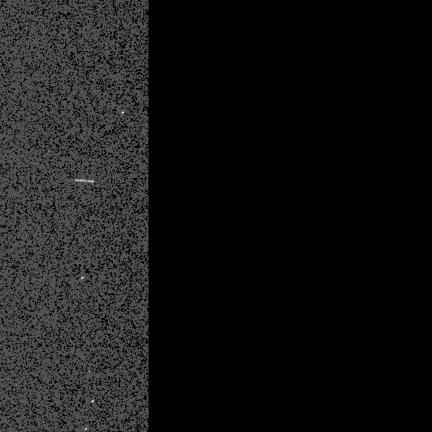blob: (92, 400, 95, 403), (82, 277, 84, 280), (122, 112, 124, 114)
